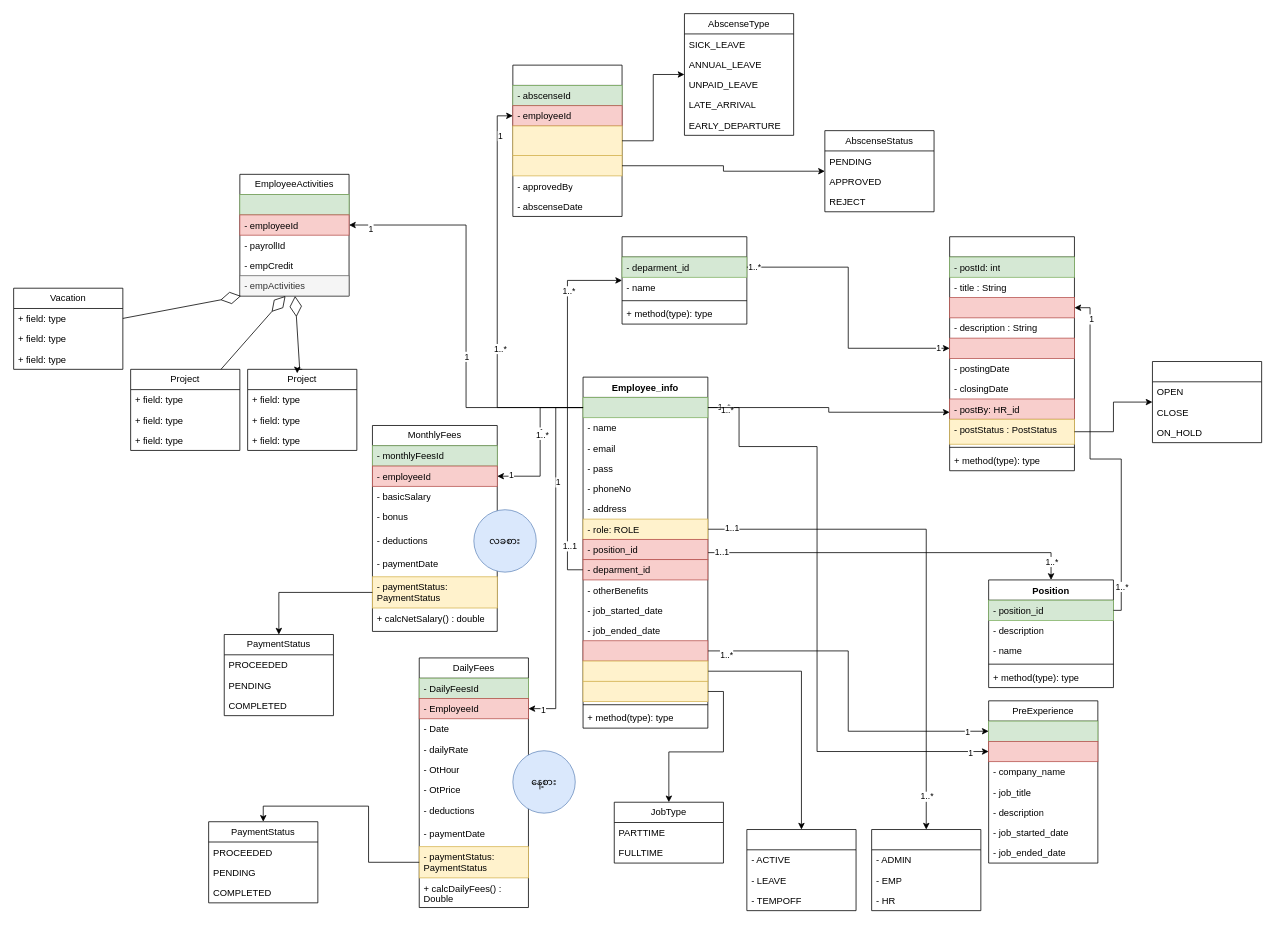
This 1275x927 diagram has some shape labels left out. Here are the shapes that lost their labels. From the top down, the box of each, then its label:
(512, 64, 622, 216): Absence
(512, 125, 622, 156): - abscenseType : AbscenseType
(512, 155, 622, 176): - abscenseStatus
(239, 194, 349, 215): - empactiveId
(621, 236, 747, 324): Department
(949, 297, 1074, 318): - position_id : int
(949, 337, 1074, 358): - department_id : int
(949, 236, 1074, 471): JobPosting
(582, 397, 708, 418): - employee_id : int
(1152, 361, 1262, 443): PostStatus
(582, 640, 708, 661): - prevExperiences
(582, 660, 708, 681): - status : Status
(582, 681, 708, 702): - jobType : JobType
(988, 720, 1098, 741): - prevExp_id
(988, 741, 1098, 762): - employee_id
(746, 829, 856, 911): Status
(871, 829, 981, 911): ROLE
